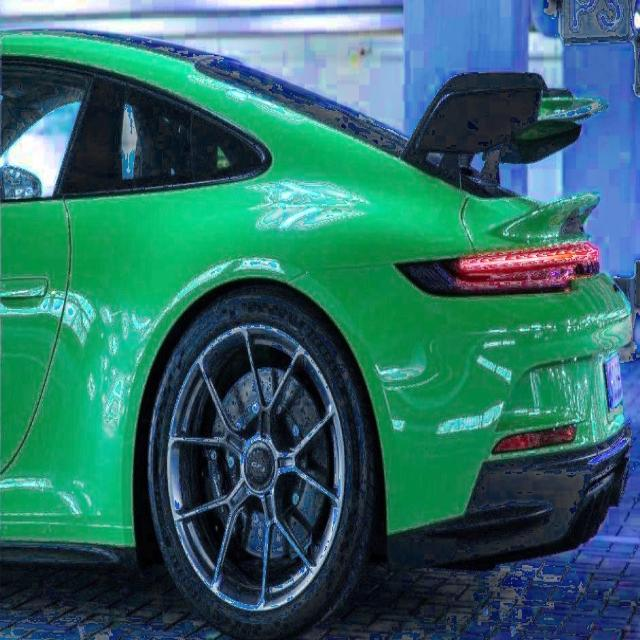green: (0, 28, 630, 626)
